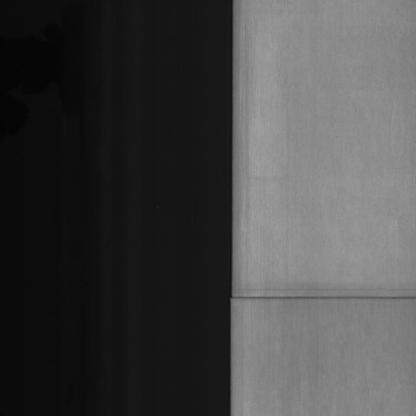welding_line: (227, 288, 416, 309)
